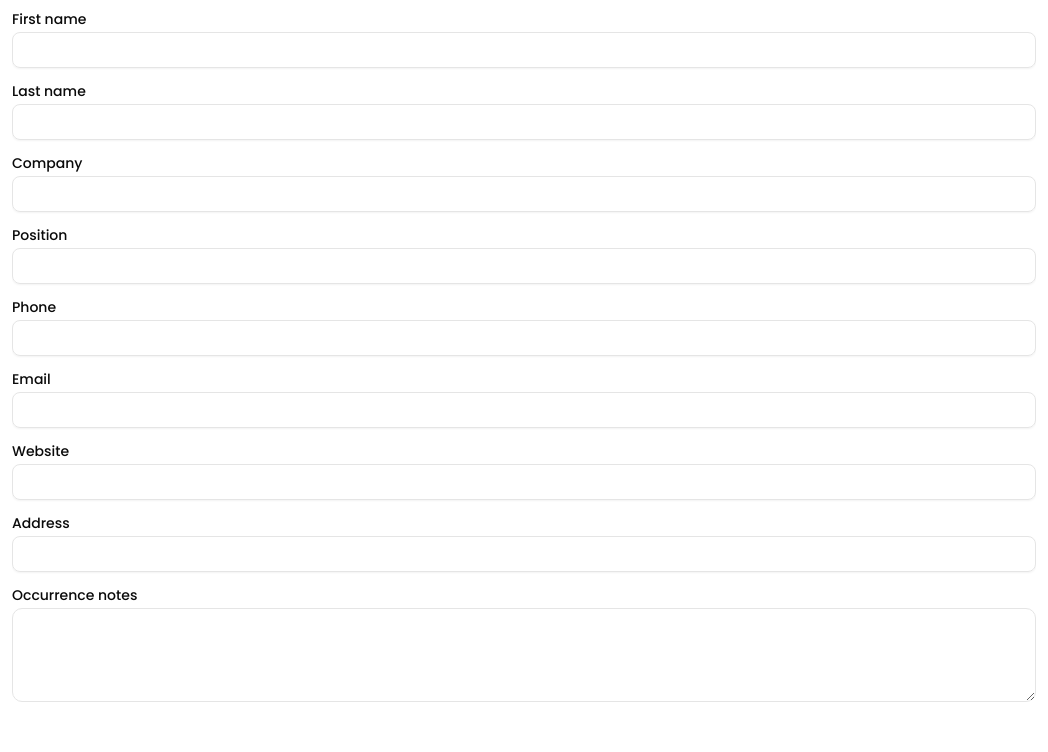
Test case: ManualCaptureForm error handling › preserves entered field values when createEventContact fails
Type "Ada" into the field labelled "First name". click: (524, 50)
box: [12, 32, 1036, 68]
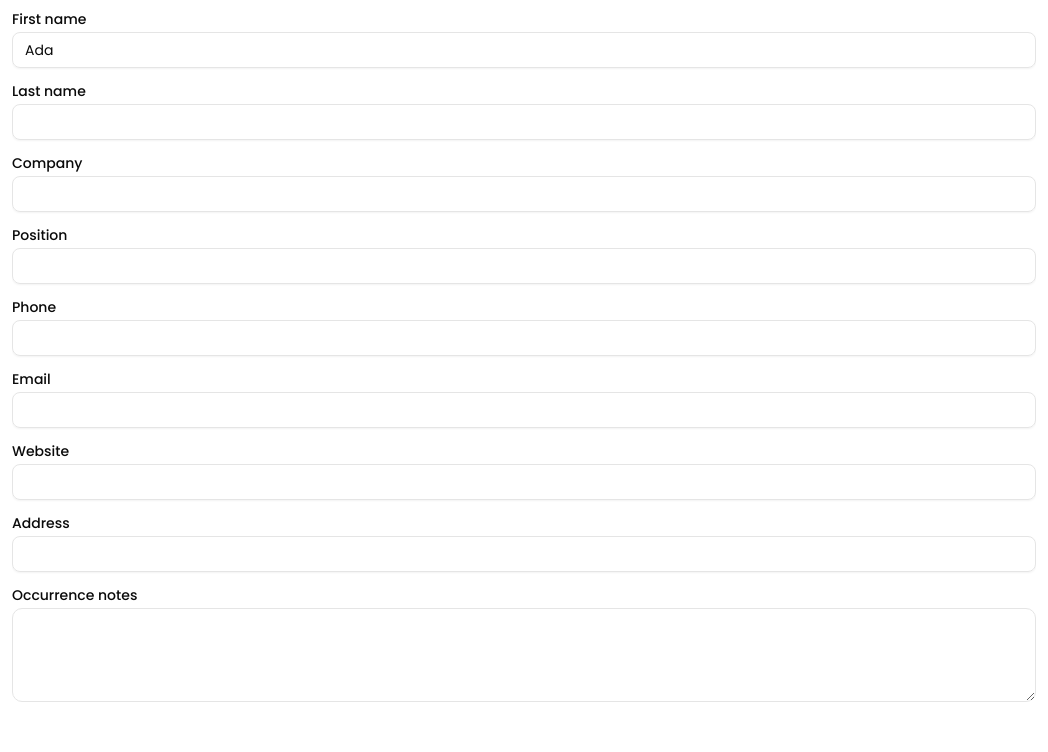
Type "Lovelace" into the field labelled "Last name". click: (524, 122)
box: [12, 104, 1036, 140]
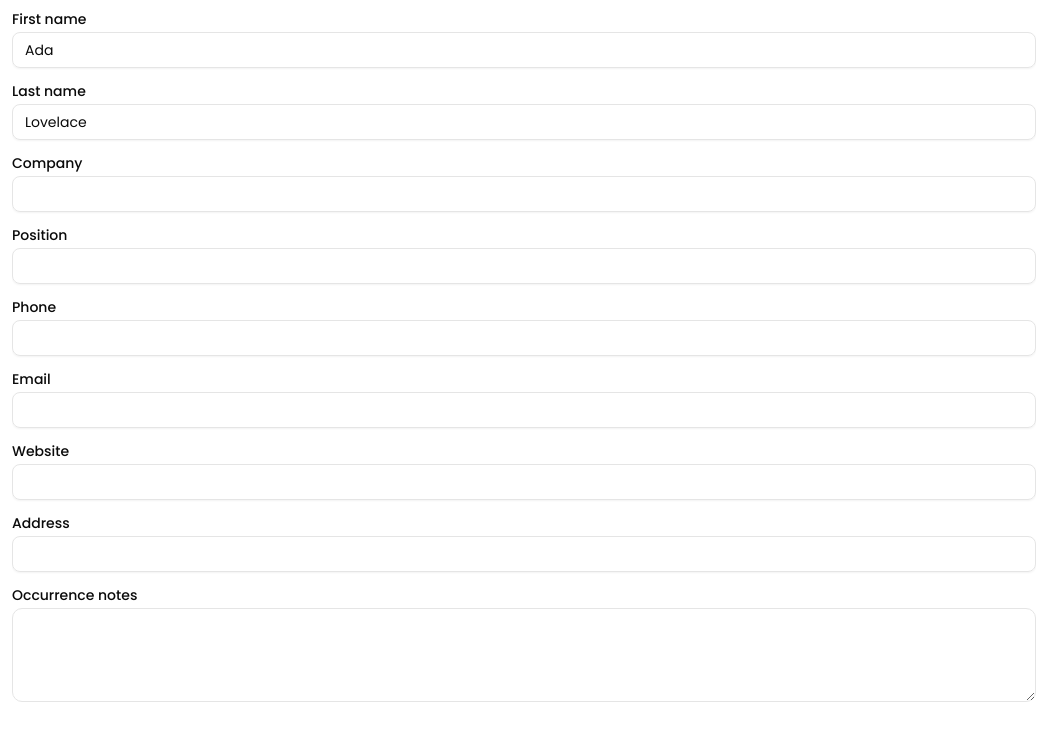
Type "5551234567" into the field labelled "Phone". click: (524, 338)
box: [12, 320, 1036, 356]
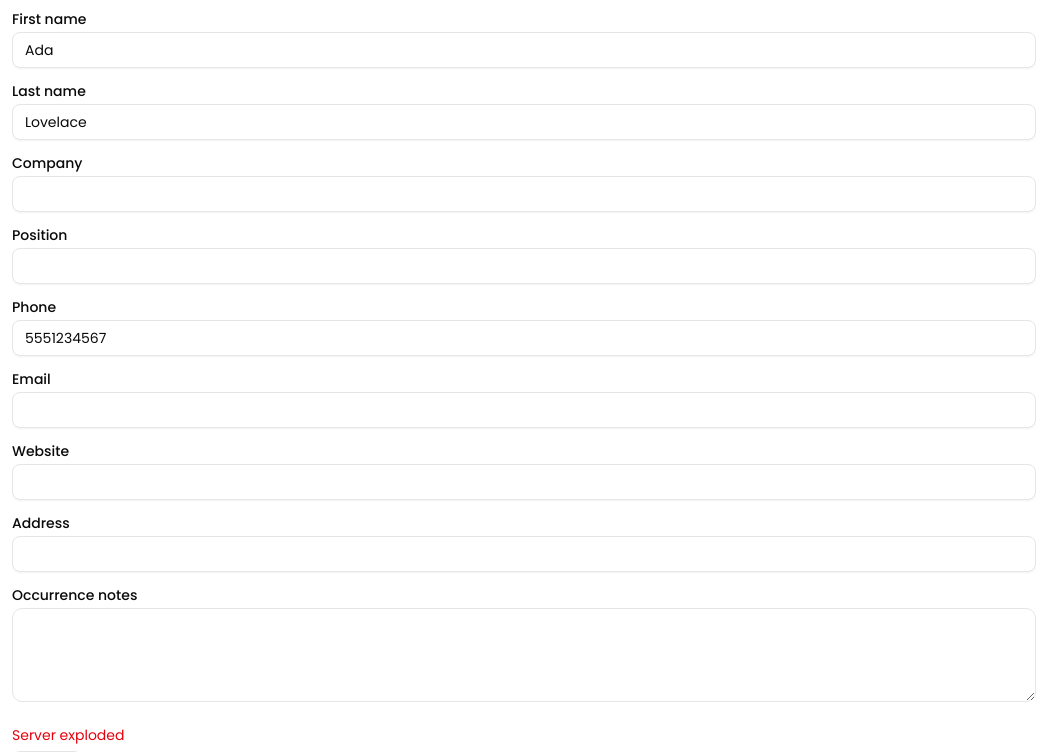
Check: the text "Server exploded" is shown, box [12, 725, 124, 745]
